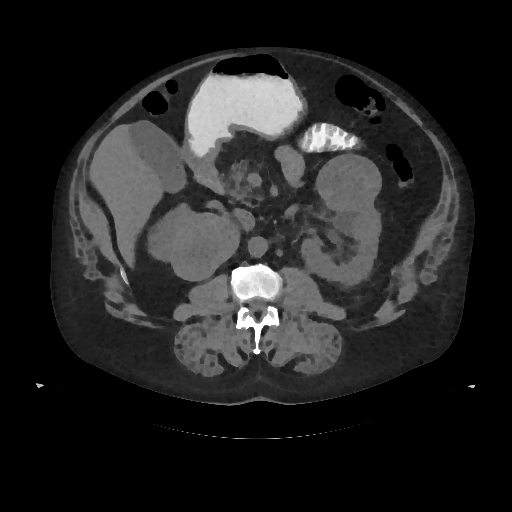Lesion: (314, 152, 384, 213)
